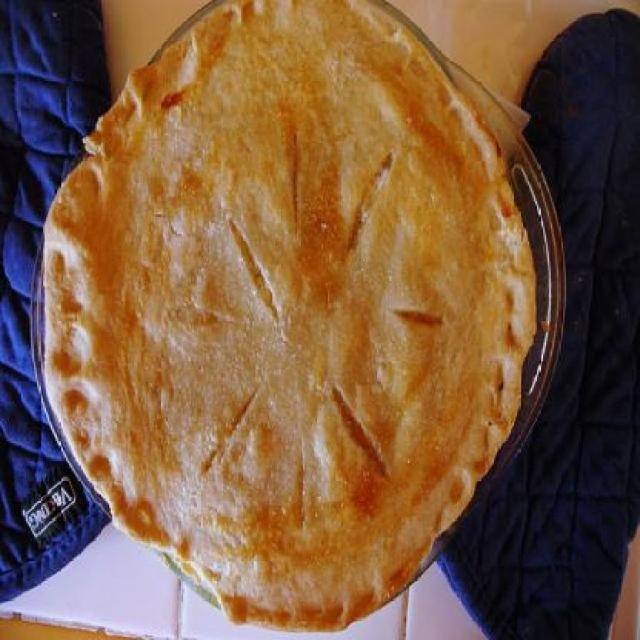Apple: (41, 4, 532, 638)
